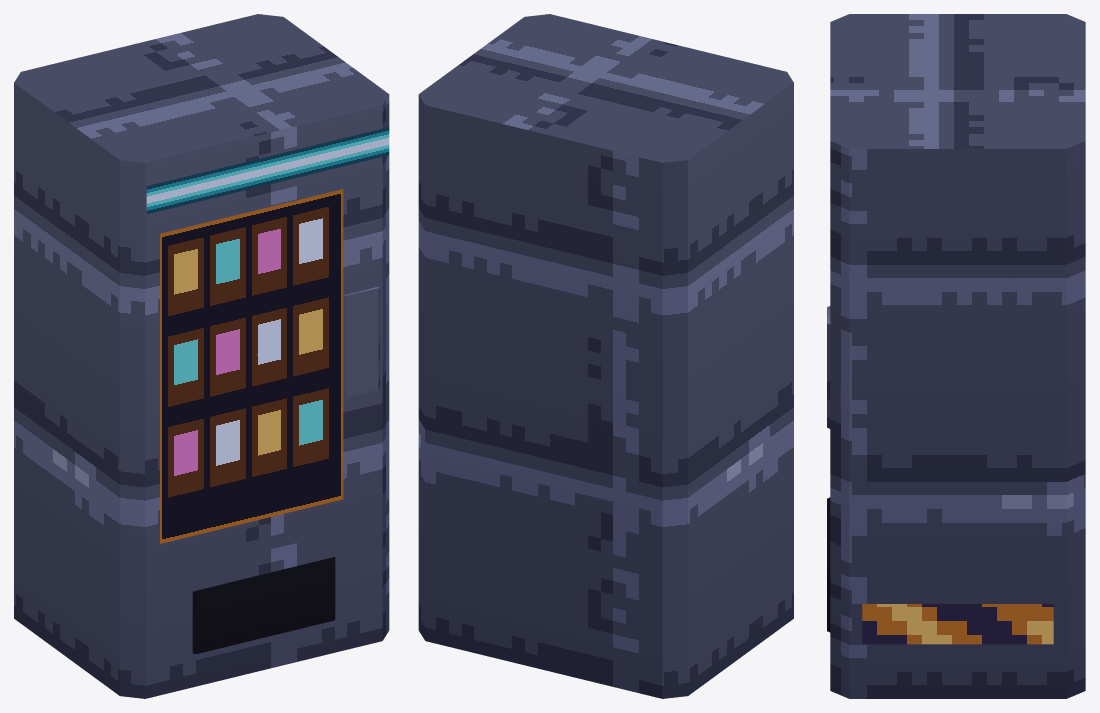
The model's file is cytech.vending.glb.
3 renders of one model, left to right at view 1: azimuth 30°, elevation 25°; view 2: azimuth 150°, elevation 25°; view 3: azimuth 270°, elevation 25°, orthographic. The views are drawn at different scales.
Visible parts, largest first — view 1: kit_body, kit_card_front; view 2: kit_body; view 3: kit_body, kit_card_front.
Part boxes in pixels (left/top/right/bottom): kit_body: left=14, top=14, right=389, bottom=698; kit_card_front: left=146, top=127, right=389, bottom=543; kit_body: left=418, top=14, right=793, bottom=698; kit_body: left=827, top=14, right=1085, bottom=698; kit_card_front: left=862, top=604, right=1053, bottom=644.
Size of the model in its own units: 1.02 by 1.9 by 0.825.
Materials: 6 (6 with a texture image).
